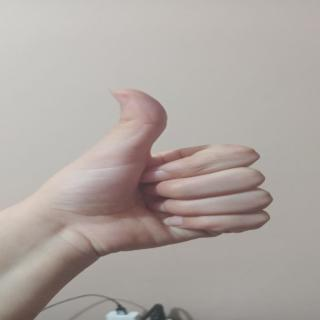ALIF: (22, 86, 285, 262)
